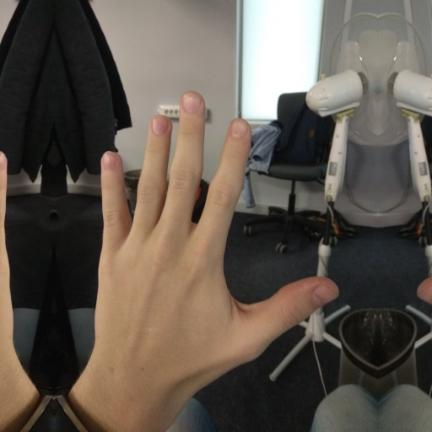Nail: (312, 285, 339, 306), (183, 92, 200, 112), (231, 120, 248, 138), (417, 285, 432, 305), (152, 117, 168, 134), (103, 155, 116, 171), (0, 155, 5, 171)
